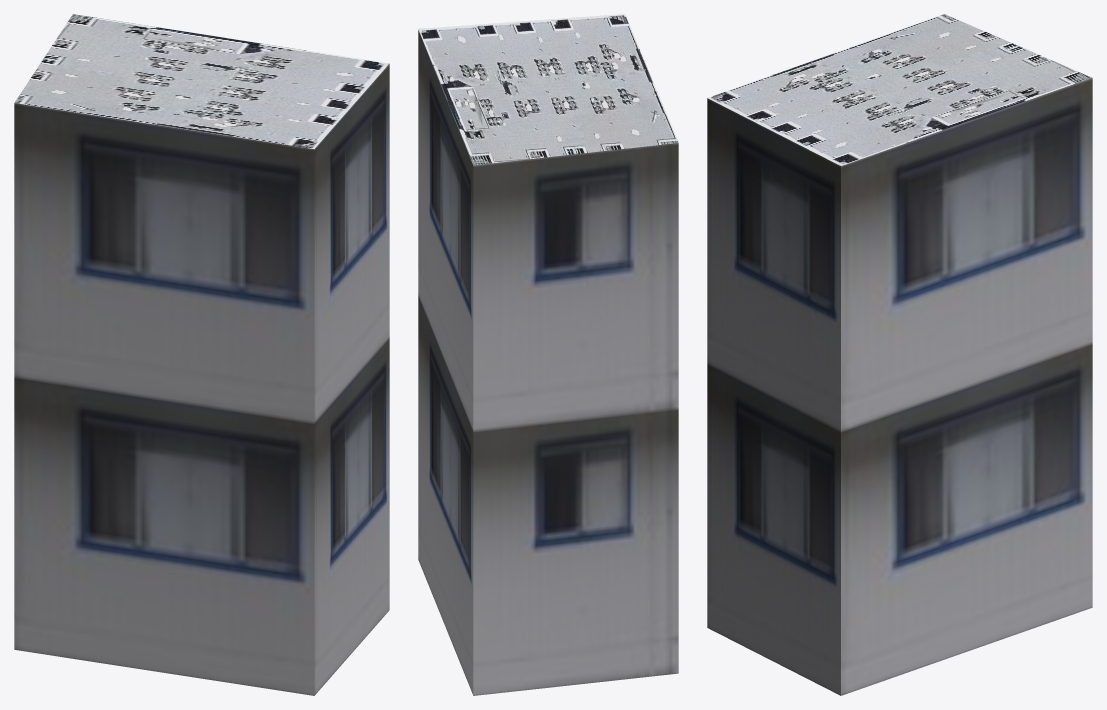
The model's file is ResTex__3062.fbx.
3 views of the same model, side by side, from view 1: azimuth 30°, elevation 25°; view 2: azimuth 150°, elevation 25°; view 3: azimuth 270°, elevation 25° (orthographic). The views are drawn at different scales.
Visible parts, largest first — view 1: CityEngineMaterial_9_m, CityEngineMaterial_2_m; view 2: CityEngineMaterial_9_m, CityEngineMaterial_2_m; view 3: CityEngineMaterial_9_m, CityEngineMaterial_2_m.
Part boxes in pixels (x1,y1,x2,y2): CityEngineMaterial_9_m: [14, 64, 389, 695]; CityEngineMaterial_2_m: [14, 14, 389, 148]; CityEngineMaterial_9_m: [418, 30, 678, 695]; CityEngineMaterial_2_m: [418, 14, 678, 165]; CityEngineMaterial_9_m: [707, 78, 1092, 695]; CityEngineMaterial_2_m: [707, 14, 1092, 165].
Bounding box in the file's own units: 3.7 × 6 × 3.96.
2 materials, 2 textured.
